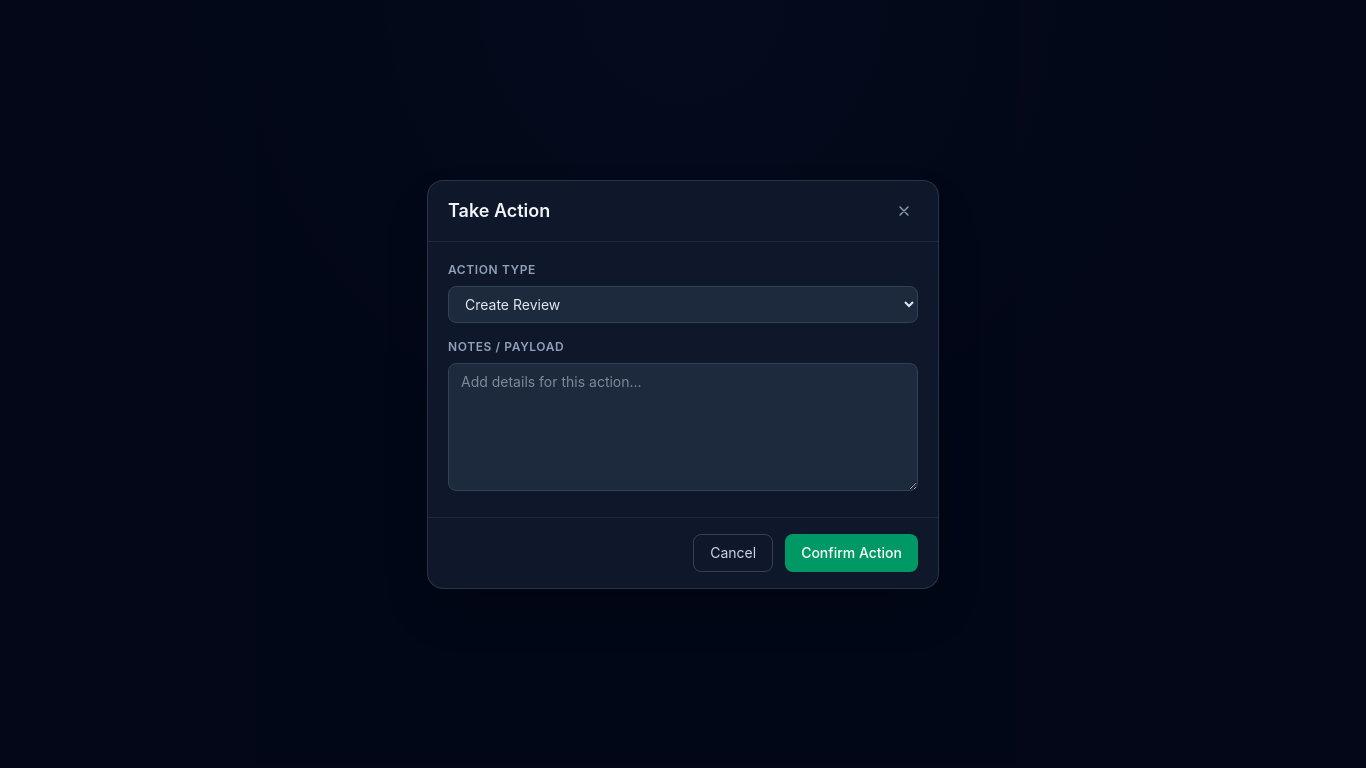
Scenario: ActionModal › re-enables the confirm button after a failed submission
Click the button "Confirm Action".
click(852, 552)  # box 785,534 -> 918,572
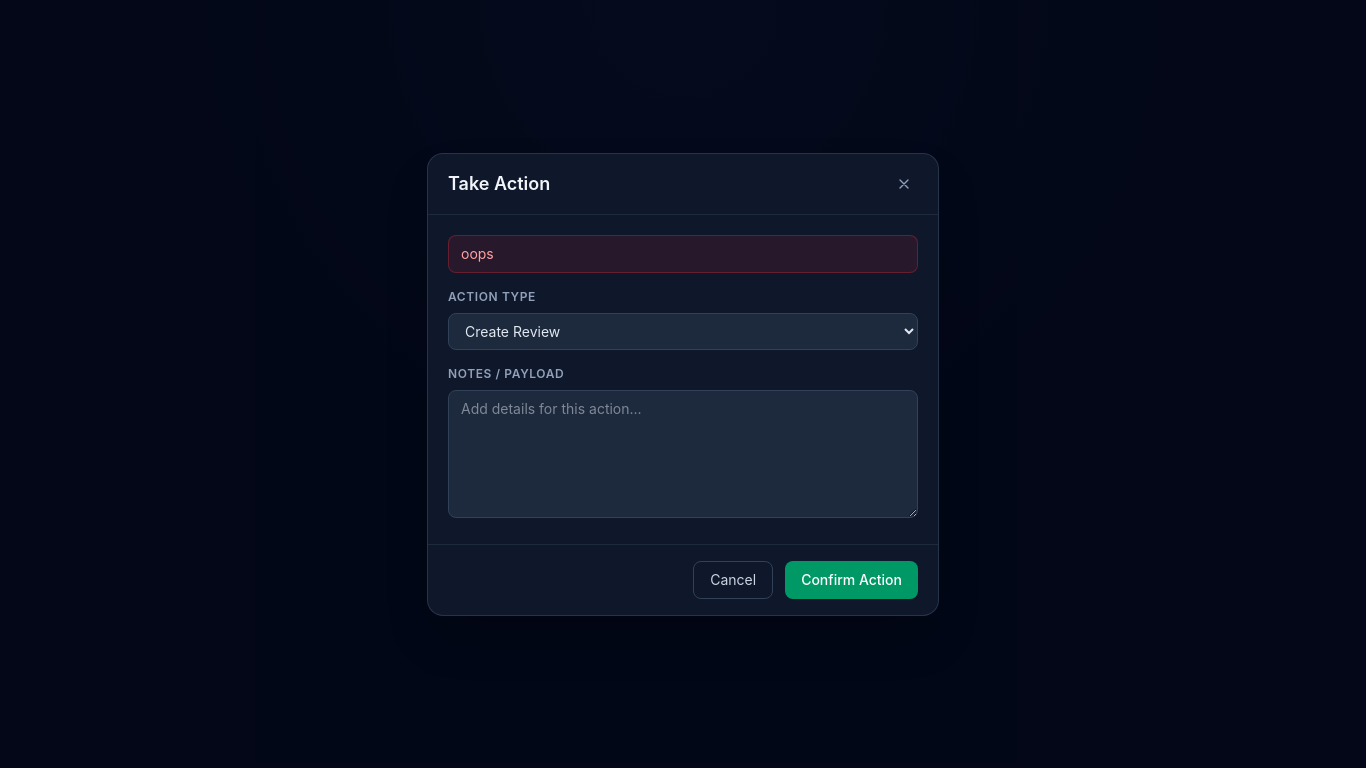
Expected: the button "Confirm Action" is enabled, 785,560 -> 918,598
Now the text "oops" is shown, box 448,234 -> 918,272
